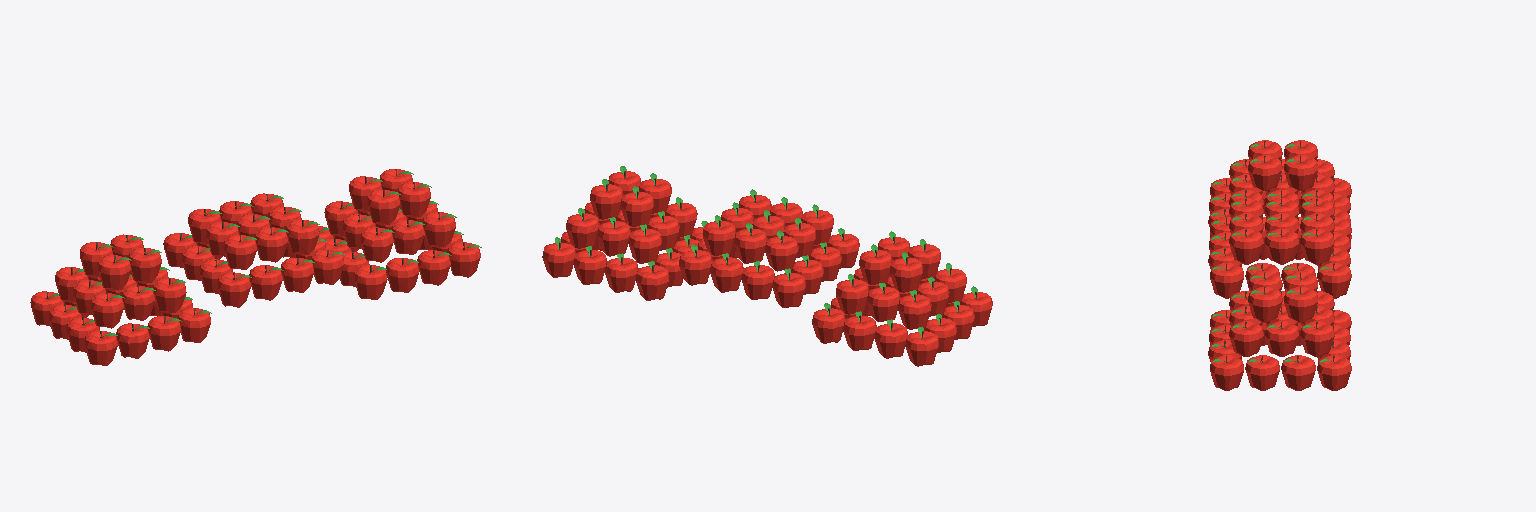
The model's file is apple.obj.
3 renders of one model, left to right at view 1: azimuth 30°, elevation 25°; view 2: azimuth 150°, elevation 25°; view 3: azimuth 270°, elevation 25°, orthographic.
Parts seen in each view (by area): view 1: Apple_Cube.026_Cube; view 2: Apple_Cube.026_Cube; view 3: Apple_Cube.026_Cube.
Part boxes in pixels (left/top/right/bottom): Apple_Cube.026_Cube: left=30, top=169, right=481, bottom=365; Apple_Cube.026_Cube: left=542, top=166, right=992, bottom=366; Apple_Cube.026_Cube: left=1208, top=140, right=1351, bottom=390.
Size of the model in its own units: 130 by 26.72 by 40.93.